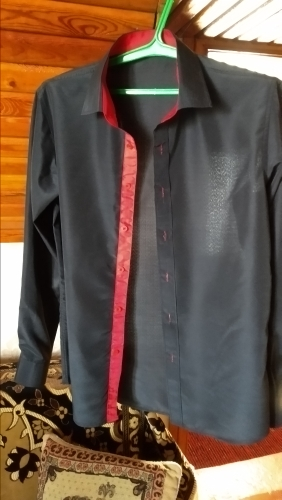shirts: (19, 50, 282, 422)
